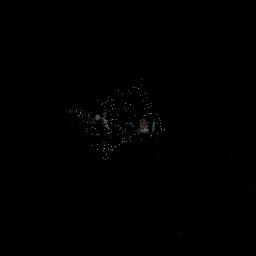boat: (75, 78, 167, 162)
